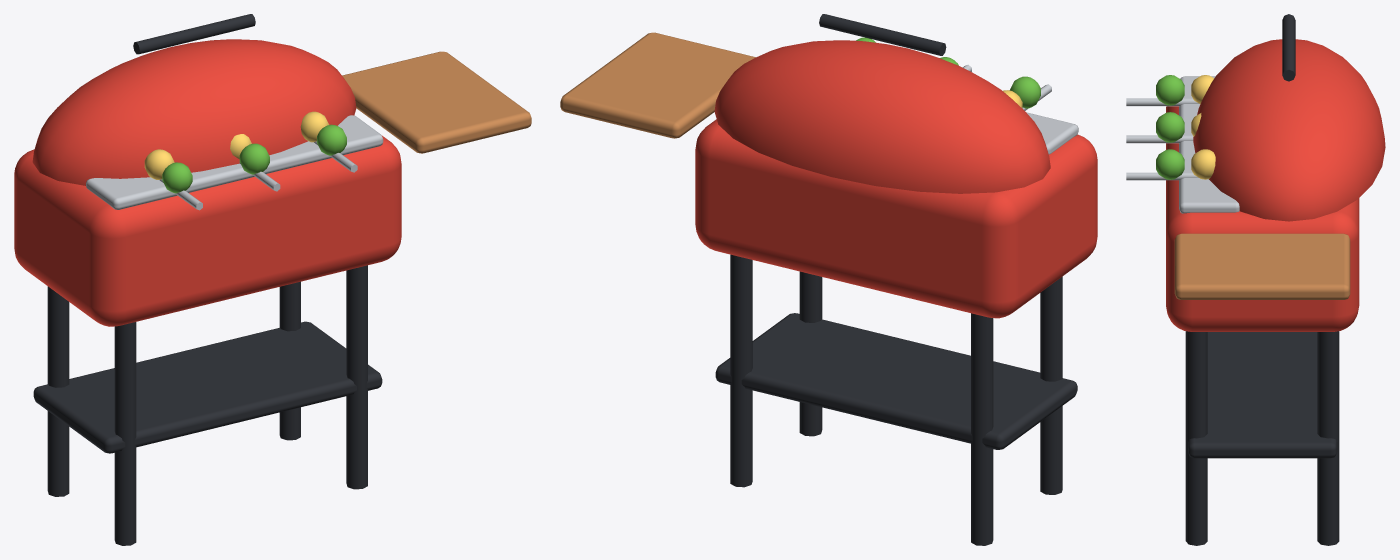
File: grill.glb
3 renders of one model, left to right at view 1: azimuth 30°, elevation 25°; view 2: azimuth 150°, elevation 25°; view 3: azimuth 270°, elevation 25°, orthographic. The views are drawn at different scales.
Size of the model in its own units: 1.13 by 1.12 by 0.59.
